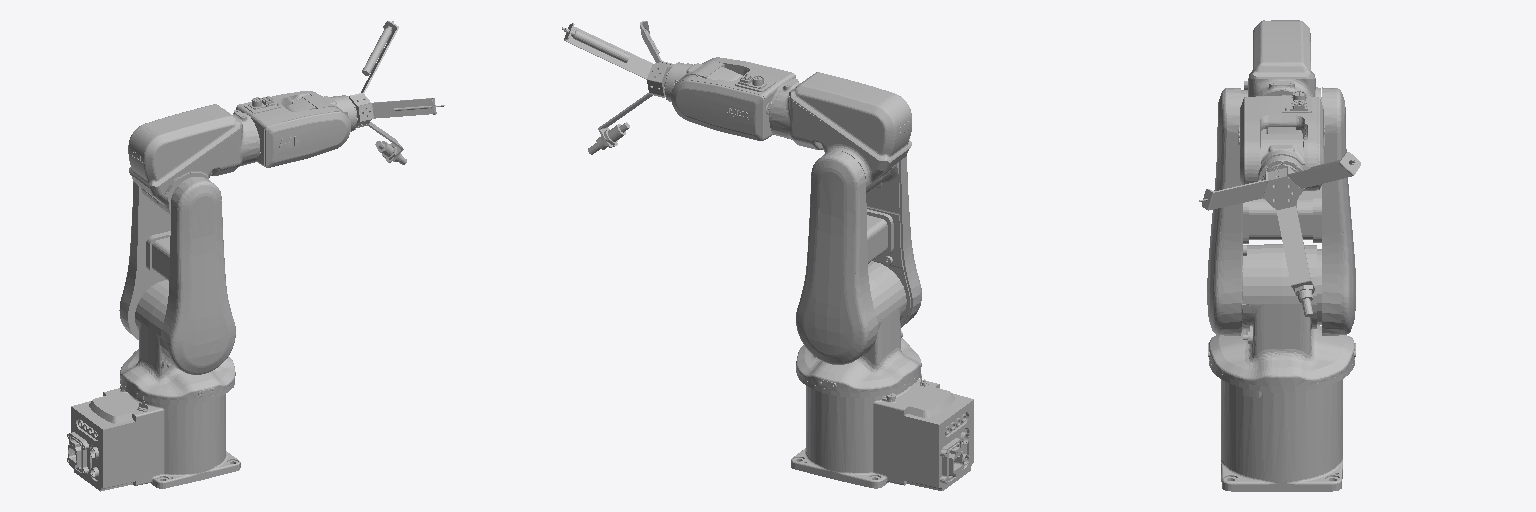
robot.urdf — abb_irb120_support:
<robot
  name="abb_irb120_support">
  <link
    name="base_link">
    <inertial>
      <origin
        xyz="-0.042039 8.0132E-05 0.079638"
        rpy="0 0 0" />
      <mass
        value="6.215" />
      <inertia
        ixx="0.024727"
        ixy="-8.0784E-05"
        ixz="0.001309"
        iyy="0.049128"
        iyz="-8.042E-06"
        izz="0.047238" />
    </inertial>
    <visual>
      <origin
        xyz="0 0 0"
        rpy="0 0 0" />
      <geometry>
        <mesh
          filename="package://abb_irb120_support/meshes/base_link.STL" />
      </geometry>
      <material
        name="">
        <color
          rgba="0.75294 0.75294 0.75294 1" />
      </material>
    </visual>
    <collision>
      <origin
        xyz="0 0 0"
        rpy="0 0 0" />
      <geometry>
        <mesh
          filename="package://abb_irb120_support/collision_meshes/base_link_collision.stl" />
      </geometry>
    </collision>
  </link>
  <link
    name="Link1">
    <inertial>
      <origin
        xyz="9.7678E-05 -0.00011928 0.070412"
        rpy="0 0 0" />
      <mass
        value="3.067" />
      <inertia
        ixx="0.014217"
        ixy="-1.2858E-05"
        ixz="-2.3136E-05"
        iyy="0.014404"
        iyz="1.9339E-05"
        izz="0.010453" />
    </inertial>
    <visual>
      <origin
        xyz="0 0 0"
        rpy="0 0 0" />
      <geometry>
        <mesh
          filename="package://abb_irb120_support/meshes/Link1.STL" />
      </geometry>
      <material
        name="">
        <color
          rgba="0.75294 0.75294 0.75294 1" />
      </material>
    </visual>
    <collision>
      <origin
        xyz="0 0 0"
        rpy="0 0 0" />
      <geometry>
        <mesh
          filename="package://abb_irb120_support/collision_meshes/Link1_collision.stl" />
      </geometry>
    </collision>
  </link>
  <joint
    name="Joint1"
    type="revolute">
    <origin
      xyz="0 0 0.168"
      rpy="0 0 0" />
    <parent
      link="base_link" />
    <child
      link="Link1" />
    <axis
      xyz="0 0 1" />
    <limit
      lower="-2.8798"
      upper="2.8798"
      effort="0"
      velocity="4.3633" />
  </joint>
  <link
    name="Link2">
    <inertial>
      <origin
        xyz="0.000778291952838616 -0.00211702803525138 0.101243214883767"
        rpy="0 0 0" />
      <mass
        value="3.90866623830227" />
      <inertia
        ixx="0.0603110976435059"
        ixy="9.83149243751087E-06"
        ixz="5.72406399607017E-05"
        iyy="0.0415689865599529"
        iyz="-0.000504969930501592"
        izz="0.0259548392864131" />
    </inertial>
    <visual>
      <origin
        xyz="0 0 0"
        rpy="0 0 0" />
      <geometry>
        <mesh
          filename="package://abb_irb120_support/meshes/Link2.STL" />
      </geometry>
      <material
        name="">
        <color
          rgba="0.752941176470588 0.752941176470588 0.752941176470588 1" />
      </material>
    </visual>
    <collision>
      <origin
        xyz="0 0 0"
        rpy="0 0 0" />
      <geometry>
        <mesh
          filename="package://abb_irb120_support/collision_meshes/Link2_collision.stl" />
      </geometry>
    </collision>
  </link>
  <joint
    name="Joint2"
    type="revolute">
    <origin
      xyz="0 0 0.122"
      rpy="0 0 0" />
    <parent
      link="Link1" />
    <child
      link="Link2" />
    <axis
      xyz="0 1 0" />
    <limit
      lower="-1.9199"
      upper="1.9199"
      effort="0"
      velocity="1.5708" />
  </joint>
  <link
    name="Link3">
    <inertial>
      <origin
        xyz="0.0228074809994381 0.00120897586284432 0.0579107368179828"
        rpy="0 0 0" />
      <mass
        value="2.9437255083924" />
      <inertia
        ixx="0.00835607306015226"
        ixy="-8.01358877542077E-05"
        ixz="0.00142880988247658"
        iyy="0.0167130296529309"
        iyz="-0.000182237668918122"
        izz="0.0126984927912076" />
    </inertial>
    <visual>
      <origin
        xyz="0 0 0"
        rpy="0 0 0" />
      <geometry>
        <mesh
          filename="package://abb_irb120_support/meshes/Link3.STL" />
      </geometry>
      <material
        name="">
        <color
          rgba="0.752941176470588 0.752941176470588 0.752941176470588 1" />
      </material>
    </visual>
    <collision>
      <origin
        xyz="0 0 0"
        rpy="0 0 0" />
      <geometry>
        <mesh
          filename="package://abb_irb120_support/collision_meshes/Link3_collision.stl" />
      </geometry>
    </collision>
  </link>
  <joint
    name="Joint3"
    type="revolute">
    <origin
      xyz="0 -0.00014469 0.27"
      rpy="0 0 0" />
    <parent
      link="Link2" />
    <child
      link="Link3" />
    <axis
      xyz="0 1 0" />
    <limit
      lower="-1.9199"
      upper="1.2217"
      effort="0"
      velocity="1.5708" />
  </joint>
  <link
    name="Link4">
    <inertial>
      <origin
        xyz="0.0751038433084677 0.000153418182333791 0.000405525366698134"
        rpy="0 0 0" />
      <mass
        value="1.32786423978252" />
      <inertia
        ixx="0.00284661086899562"
        ixy="-2.12765348444726E-05"
        ixz="-1.64352201487469E-05"
        iyy="0.00401345852490699"
        iyz="1.31335897238183E-05"
        izz="0.00525350971191271" />
    </inertial>
    <visual>
      <origin
        xyz="0 0 0"
        rpy="0 0 0" />
      <geometry>
        <mesh
          filename="package://abb_irb120_support/meshes/Link4.STL" />
      </geometry>
      <material
        name="">
        <color
          rgba="0.752941176470588 0.752941176470588 0.752941176470588 1" />
      </material>
    </visual>
    <collision>
      <origin
        xyz="0 0 0"
        rpy="0 0 0" />
      <geometry>
        <mesh
          filename="package://abb_irb120_support/collision_meshes/Link4_collision.stl" />
      </geometry>
    </collision>
  </link>
  <joint
    name="Joint4"
    type="revolute">
    <origin
      xyz="0.1496 0.00014469 0.07"
      rpy="0 0 0" />
    <parent
      link="Link3" />
    <child
      link="Link4" />
    <axis
      xyz="1 0 0" />
    <limit
      lower="-2.7925"
      upper="2.7925"
      effort="0"
      velocity="2.618" />
  </joint>
  <link
    name="Link5">
    <inertial>
      <origin
        xyz="-0.00109483746836125 0.0320368524524147 6.22166698938109E-05"
        rpy="0 0 0" />
      <mass
        value="0.546626845859248" />
      <inertia
        ixx="0.000404891032170954"
        ixy="1.61942918043531E-06"
        ixz="8.46804365684889E-07"
        iyy="0.000892824969239831"
        iyz="-1.51796477263052E-08"
        izz="0.000815468385056356" />
    </inertial>
    <visual>
      <origin
        xyz="0 0 0"
        rpy="0 0 0" />
      <geometry>
        <mesh
          filename="package://abb_irb120_support/meshes/Link5.STL" />
      </geometry>
      <material
        name="">
        <color
          rgba="0.752941176470588 0.752941176470588 0.752941176470588 1" />
      </material>
    </visual>
    <collision>
      <origin
        xyz="0 0 0"
        rpy="0 0 0" />
      <geometry>
        <mesh
          filename="package://abb_irb120_support/collision_meshes/Link5_collision.stl" />
      </geometry>
    </collision>
  </link>
  <joint
    name="Joint5"
    type="revolute">
    <origin
      xyz="0.1524 -0.032 0"
      rpy="0 0 0" />
    <parent
      link="Link4" />
    <child
      link="Link5" />
    <axis
      xyz="0 1 0" />
    <limit
      lower="-2.0944"
      upper="2.0944"
      effort="0"
      velocity="2.0944" />
  </joint>
  <link
    name="Link6">
    <inertial>
      <origin
        xyz="0.0200379127426173 -0.000169581014409805 -1.32366980598597E-06"
        rpy="0 0 0" />
      <mass
        value="0.013678420390067" />
      <inertia
        ixx="2.97681416595681E-06"
        ixy="-7.6625029712154E-09"
        ixz="-8.91499959844029E-11"
        iyy="1.69426726293188E-06"
        iyz="-3.06372609037413E-12"
        izz="1.65769997949113E-06" />
    </inertial>
    <visual>
      <origin
        xyz="0 0 0"
        rpy="0 0 0" />
      <geometry>
        <mesh
          filename="package://abb_irb120_support/meshes/Link6.STL" />
      </geometry>
      <material
        name="">
        <color
          rgba="0.752941176470588 0.752941176470588 0.752941176470588 1" />
      </material>
    </visual>
    <collision>
      <origin
        xyz="0 0 0"
        rpy="0 0 0" />
      <geometry>
        <mesh
          filename="package://abb_irb120_support/collision_meshes/Link6_collision.stl" />
      </geometry>
    </collision>
  </link>
  <joint
    name="Joint6"
    type="revolute">
    <origin
      xyz="0.0449 0.032 0"
      rpy="0 0 0" />
    <parent
      link="Link5" />
    <child
      link="Link6" />
    <axis
      xyz="1 0 0" />
    <limit
      lower="-6.9813"
      upper="6.9813"
      effort="0"
      velocity="3.3161" />
  </joint>
  <link
    name="Link7">
    <inertial>
      <origin
        xyz="0.0601089523443162 0.0175664480188072 -0.00795697526891392"
        rpy="0 0 0" />
      <mass
        value="0.157422249704945" />
      <inertia
        ixx="0.000945041277634227"
        ixy="0.000134505990230202"
        ixz="-3.60207980895639E-05"
        iyy="0.000970220164883578"
        iyz="7.34400740845334E-05"
        izz="0.000575731843595281" />
    </inertial>
    <visual>
      <origin
        xyz="0 0 0"
        rpy="0 0 0" />
      <geometry>
        <mesh
          filename="package://abb_irb120_support/meshes/Link7.STL" />
      </geometry>
      <material
        name="">
        <color
          rgba="0.752941176470588 0.752941176470588 0.752941176470588 1" />
      </material>
    </visual>
    <collision>
      <origin
        xyz="0 0 0"
        rpy="0 0 0" />
      <geometry>
        <mesh
          filename="package://abb_irb120_support/collision_meshes/Link7_collision.stl" />
      </geometry>
    </collision>
  </link>
  <joint
    name="Joint7"
    type="fixed">
    <origin
      xyz="0.0271 -9.6249E-05 0"
      rpy="0 0 0" />
    <parent
      link="Link6" />
    <child
      link="Link7" />
    <axis
      xyz="0 0 0" />
    <limit
      lower="0"
      upper="0"
      effort="0"
      velocity="0" />
  </joint>
</robot>

--- What the picture shows (computed from the rendered views, not written in the file) ---
The picture shows the robot from 3 angles, left to right: view 1: azimuth 30°, elevation 25°; view 2: azimuth 150°, elevation 25°; view 3: azimuth 270°, elevation 25°; orthographic projection.
Model abb_irb120_support with 8 links and 7 joints (6 revolute, 1 fixed), rooted at base_link, posed all joints at 0.
Links seen in each view (by area): view 1: Link2, base_link, Link3, Link1, Link4, Link7, Link5; view 2: Link2, base_link, Link3, Link1, Link4, Link7, Link5; view 3: Link2, Link1, base_link, Link7, Link4, Link3, Link5.
Link boxes in pixels (x1=…): Link2: x1=119, y1=177, x2=235, y2=374; base_link: x1=67, y1=385, x2=240, y2=491; Link3: x1=128, y1=104, x2=260, y2=215; Link1: x1=120, y1=280, x2=235, y2=404; Link4: x1=236, y1=91, x2=350, y2=167; Link7: x1=349, y1=21, x2=444, y2=164; Link5: x1=286, y1=94, x2=357, y2=131; Link2: x1=796, y1=151, x2=921, y2=364; base_link: x1=791, y1=374, x2=973, y2=490; Link3: x1=769, y1=72, x2=911, y2=192; Link1: x1=796, y1=261, x2=921, y2=397; Link4: x1=671, y1=57, x2=795, y2=140; Link7: x1=562, y1=21, x2=672, y2=154; Link5: x1=664, y1=61, x2=741, y2=101; Link2: x1=1207, y1=87, x2=1355, y2=335; Link1: x1=1208, y1=244, x2=1355, y2=397; base_link: x1=1221, y1=379, x2=1342, y2=491; Link7: x1=1199, y1=152, x2=1360, y2=316; Link4: x1=1238, y1=91, x2=1324, y2=190; Link3: x1=1244, y1=20, x2=1321, y2=101; Link5: x1=1258, y1=127, x2=1304, y2=197.
Bounding box of the posed robot: 0.7376 × 0.2396 × 0.747 m (x, y, z).
8 mesh visuals loaded from 8 distinct referenced files (8 binary STL).